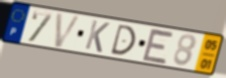7: (27, 9, 54, 44)
8: (172, 34, 199, 69)
D: (109, 23, 137, 57)
E: (141, 27, 176, 66)
K: (83, 19, 112, 55)
V: (53, 12, 84, 50)
